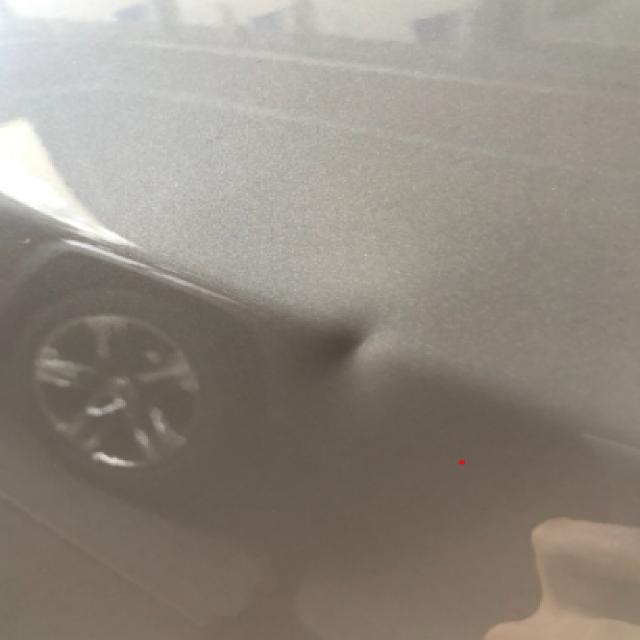dents: (281, 299, 494, 421)
